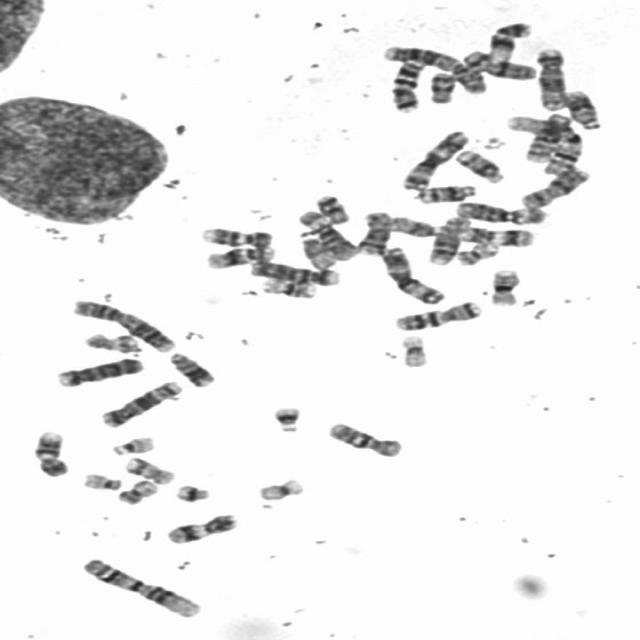A1: (76, 553, 204, 619), (503, 111, 585, 175)
A2: (65, 296, 177, 354), (377, 41, 490, 95)
A3: (395, 127, 472, 192), (376, 243, 448, 306)
B4: (52, 353, 146, 388), (244, 256, 343, 286)
B5: (96, 376, 186, 428), (532, 44, 572, 112)
C10: (322, 418, 406, 459), (519, 110, 576, 163)
C11: (161, 510, 241, 545), (455, 224, 537, 248)
C12: (484, 18, 535, 62), (200, 243, 279, 270)
C6: (293, 207, 361, 261), (451, 198, 551, 226)
C7: (390, 296, 484, 332), (385, 56, 429, 114)
C8: (424, 212, 473, 267), (354, 210, 393, 256)
C9: (29, 427, 72, 478), (197, 224, 274, 249)
D13: (165, 348, 217, 388), (559, 87, 604, 130)
D14: (451, 146, 506, 184), (410, 181, 479, 204)
D15: (296, 233, 339, 270), (384, 213, 443, 238)
E16: (484, 265, 524, 308), (256, 274, 319, 300)
E17: (120, 453, 177, 486), (79, 329, 144, 354)
E18: (310, 190, 352, 226), (424, 69, 457, 104)
F19: (252, 474, 308, 502), (395, 331, 432, 368)
F20: (451, 238, 502, 267), (111, 476, 160, 506)
G21: (266, 402, 305, 434), (169, 481, 214, 503)
G22: (106, 432, 158, 456), (78, 469, 124, 491)
X: (517, 165, 593, 209), (457, 46, 538, 81)
